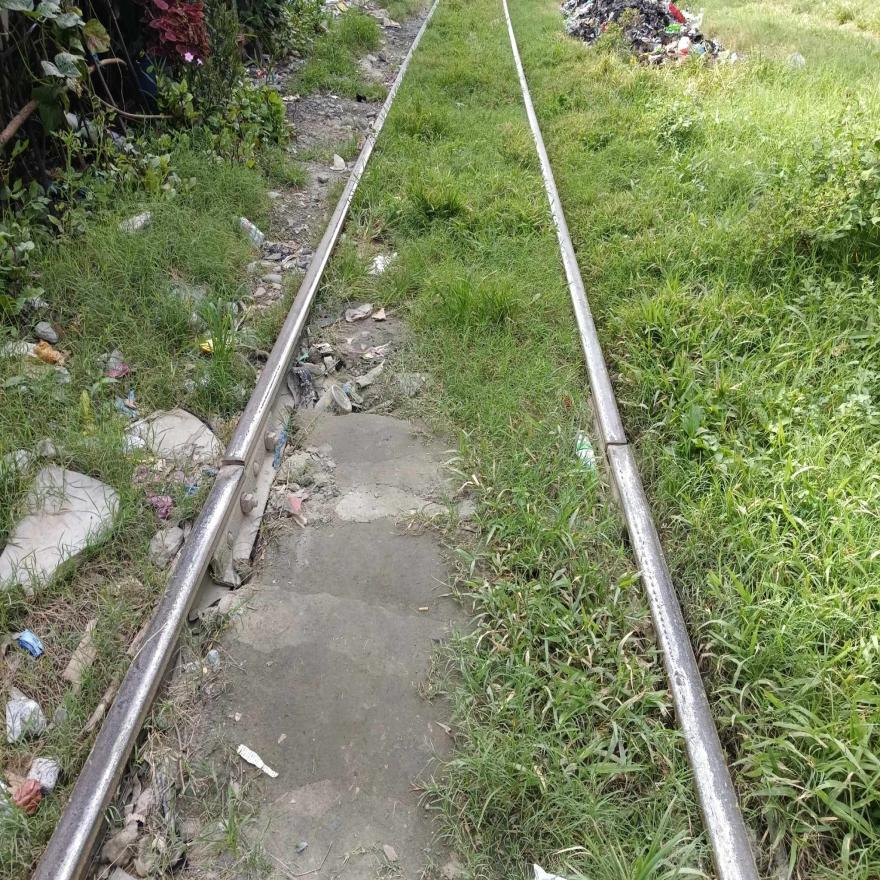railway-gap: (586, 411, 648, 481), (206, 436, 262, 496)
